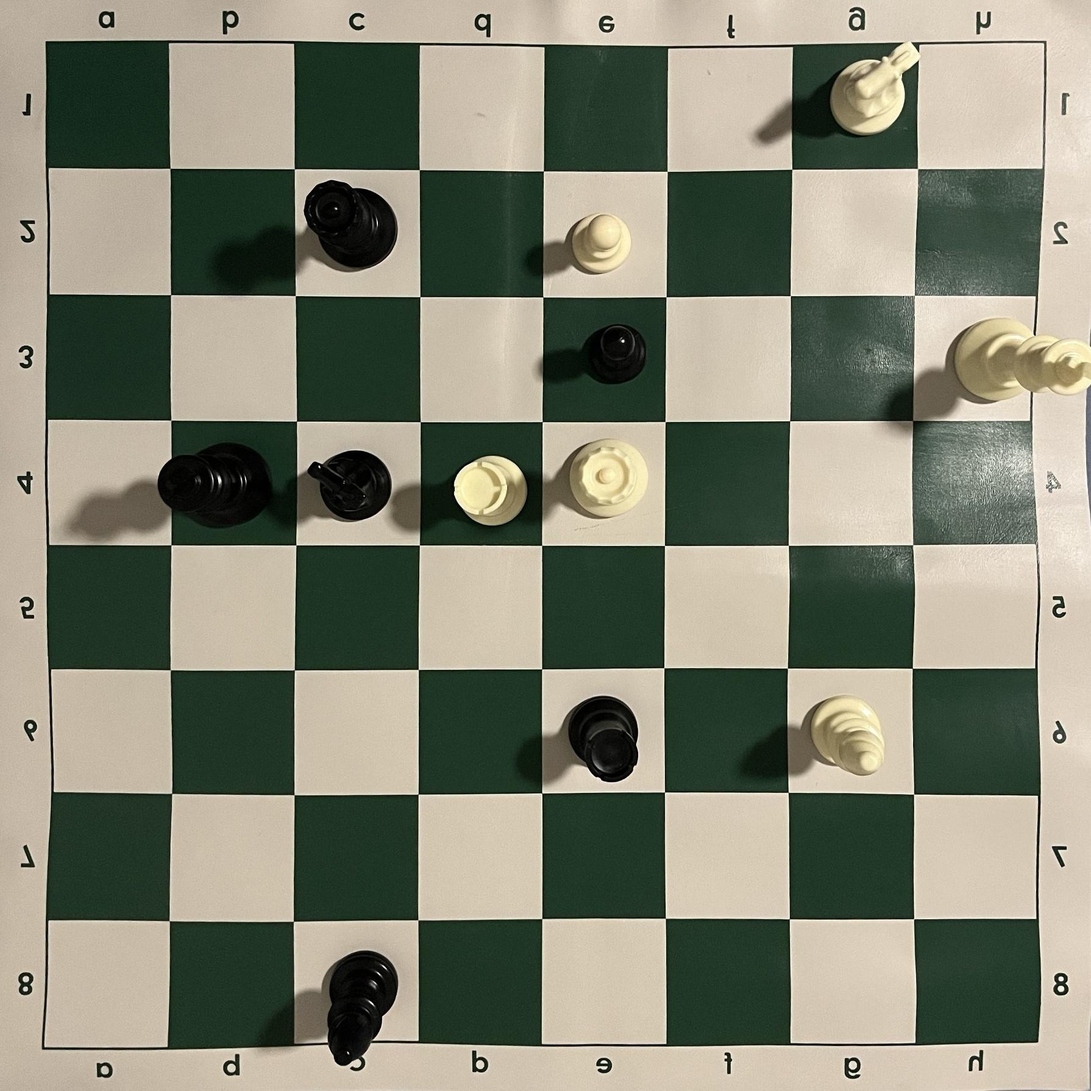black_bishop: (326, 951, 400, 1065)
black_king: (157, 442, 273, 529)
black_knight: (307, 450, 393, 521)
black_pawn: (585, 324, 646, 385)
black_queen: (304, 179, 398, 270)
black_rook: (568, 695, 639, 782)
white_bishop: (811, 695, 886, 776)
white_king: (953, 317, 1091, 402)
white_knight: (829, 41, 920, 137)
white_pawn: (571, 213, 633, 274)
white_queen: (569, 438, 649, 519)
white_rook: (454, 455, 527, 527)
